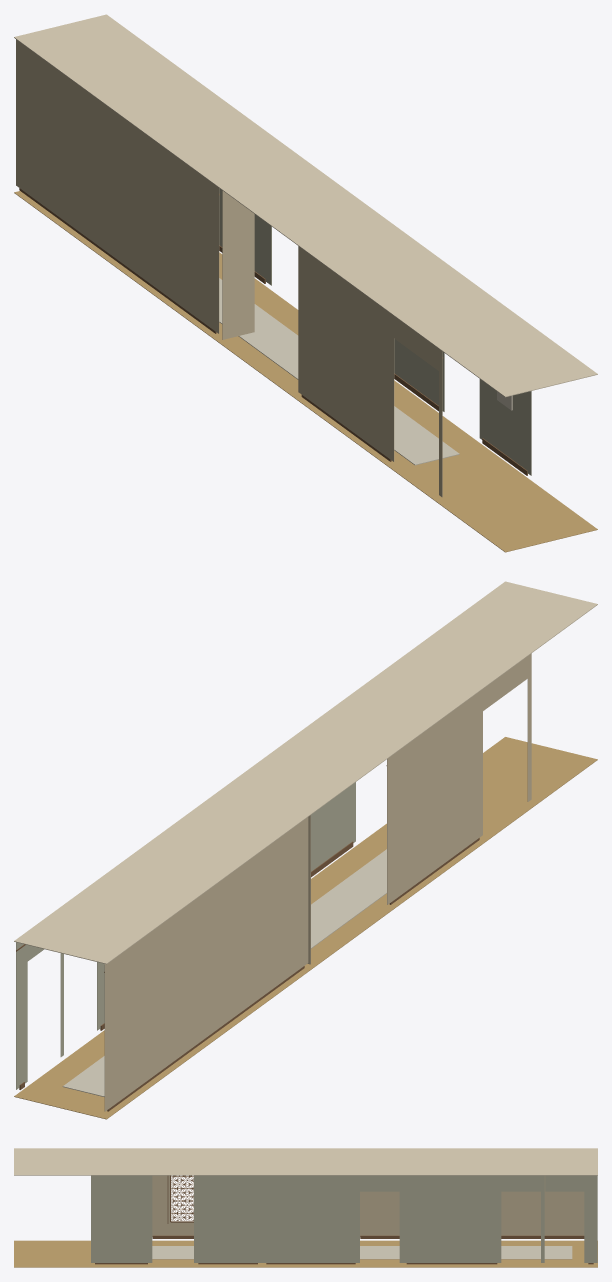
File: corridor-2.glb
3 views of the same model, one above another, from view 1: azimuth 30°, elevation 25°; view 2: azimuth 150°, elevation 25°; view 3: azimuth 270°, elevation 25° (orthographic). The views are drawn at different scales.
Parts seen in each view (by area): view 1: DESIGN | Entrance coordinated ceiling, DESIGN | Entrance paired wall finish, DESIGN | Entrance floor finish, DESIGN | Entrance paired wall finish.003, DESIGN | Arch approach finish, DESIGN | Entrance quiet runner, DESIGN | Entrance paired wall finish.013, DESIGN | Entrance paired wall finish.012, DESIGN | Entrance paired wall finish.006, DESIGN | Entrance paired wall finish.002; view 2: DESIGN | Entrance coordinated ceiling, DESIGN | Entrance paired wall finish, DESIGN | Entrance floor finish, DESIGN | Entrance paired wall finish.003, DESIGN | Entrance quiet runner, DESIGN | Entrance paired wall finish.012, DESIGN | Entrance paired wall finish.005, DESIGN | Entrance paired wall finish.002, DESIGN | Entrance paired wall finish.001; view 3: DESIGN | Entrance coordinated ceiling, DESIGN | Entrance paired wall finish.006, DESIGN | Entrance paired wall finish.009, DESIGN | Entrance floor finish, DESIGN | Entrance paired wall finish.012, DESIGN | Entrance paired wall finish, DESIGN | Entrance paired wall finish.013, DESIGN | Entrance quiet runner, DESIGN | Entrance paired wall finish.003, DESIGN | Entrance paired wall finish.005, DESIGN | Filtered light across a quiet garden wall diffuse b, DESIGN | Kumiko | Filtered light across a quiet garden wall (+7 smaller).
Part boxes in pixels (<box>): DESIGN | Entrance coordinated ceiling: <box>14,14,597,397</box>; DESIGN | Entrance paired wall finish: <box>16,39,219,333</box>; DESIGN | Entrance floor finish: <box>14,191,597,552</box>; DESIGN | Entrance paired wall finish.003: <box>298,246,394,461</box>; DESIGN | Arch approach finish: <box>222,190,254,339</box>; DESIGN | Entrance quiet runner: <box>219,278,459,465</box>; DESIGN | Entrance paired wall finish.013: <box>479,379,531,475</box>; DESIGN | Entrance paired wall finish.012: <box>394,339,444,411</box>; DESIGN | Entrance paired wall finish.006: <box>219,188,268,283</box>; DESIGN | Entrance paired wall finish.002: <box>394,316,438,370</box>; DESIGN | Entrance coordinated ceiling: <box>14,581,597,964</box>; DESIGN | Entrance paired wall finish: <box>104,817,308,1111</box>; DESIGN | Entrance floor finish: <box>14,737,597,1119</box>; DESIGN | Entrance paired wall finish.003: <box>387,689,482,904</box>; DESIGN | Entrance quiet runner: <box>62,849,386,1096</box>; DESIGN | Entrance paired wall finish.012: <box>311,782,355,871</box>; DESIGN | Entrance paired wall finish.005: <box>16,942,27,1089</box>; DESIGN | Entrance paired wall finish.002: <box>483,656,527,710</box>; DESIGN | Entrance paired wall finish.001: <box>527,653,531,801</box>; DESIGN | Entrance coordinated ceiling: <box>14,1148,597,1175</box>; DESIGN | Entrance paired wall finish.006: <box>402,1175,501,1262</box>; DESIGN | Entrance paired wall finish.009: <box>262,1175,359,1262</box>; DESIGN | Entrance floor finish: <box>14,1240,597,1267</box>; DESIGN | Entrance paired wall finish.012: <box>194,1175,262,1262</box>; DESIGN | Entrance paired wall finish: <box>360,1176,584,1236</box>; DESIGN | Entrance paired wall finish.013: <box>91,1175,152,1262</box>; DESIGN | Entrance quiet runner: <box>152,1246,572,1259</box>; DESIGN | Entrance paired wall finish.003: <box>152,1175,193,1236</box>; DESIGN | Entrance paired wall finish.005: <box>584,1175,597,1262</box>; DESIGN | Filtered light across a quiet garden wall diffuse b: <box>171,1175,193,1221</box>; DESIGN | Kumiko | Filtered light across a quiet garden wall: <box>170,1175,193,1222</box>.
Bounding box in the file's own units: 1.7 × 2.73 × 15.61.
